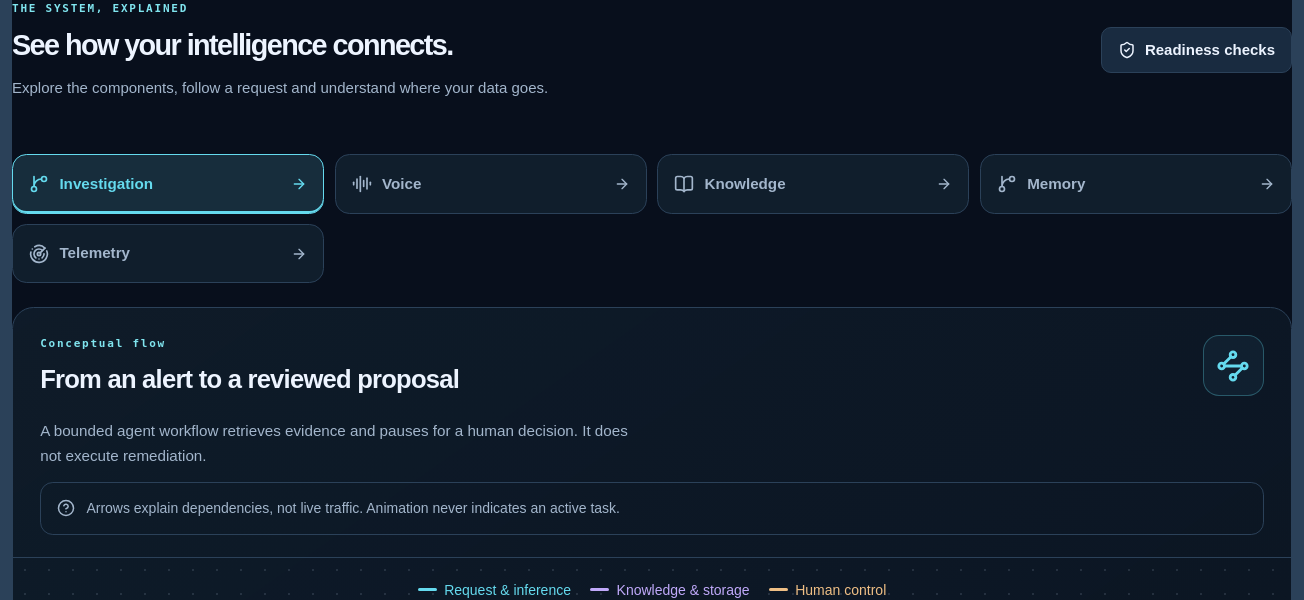
Test: architecture: explained flows and measured checks › changes every journey and selected component to French without changing service or route identifiers
Click the button "Voice".
click(402, 183)  # box left=335, top=154, right=647, bottom=214
(page scrolled)
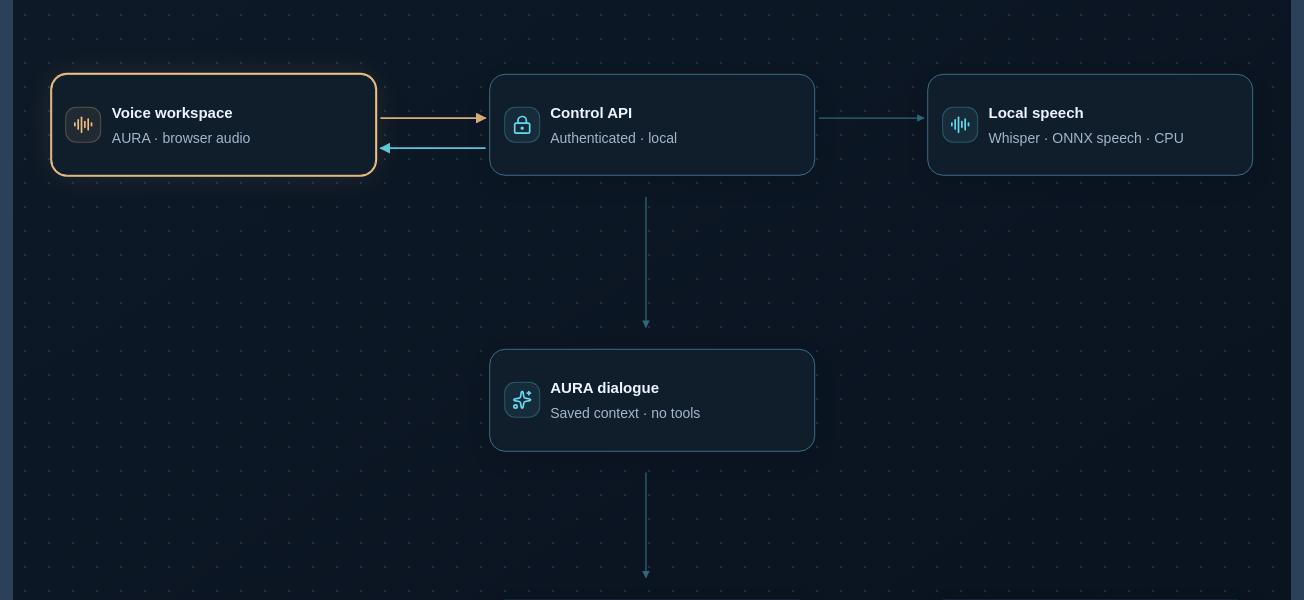
Click the button "AURA dialogue Saved context · no tools".
click(522, 400)  # box left=489, top=349, right=815, bottom=451
(page scrolled)
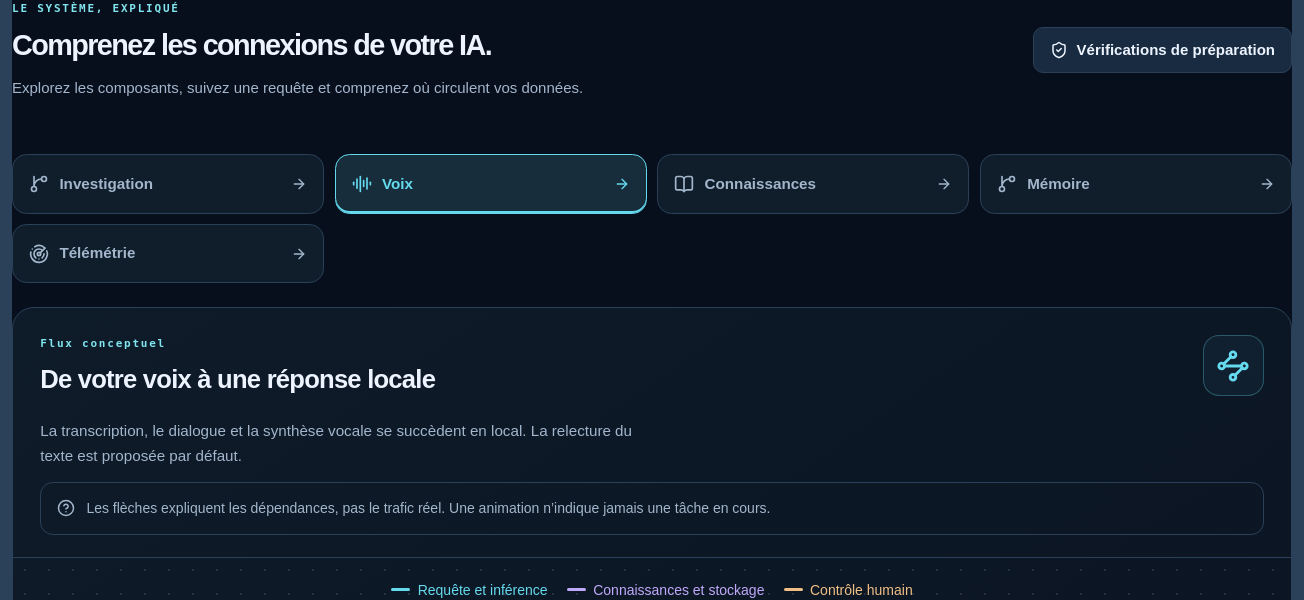
Check: the heading "De votre voix à une réponse locale" is shown, box left=40, top=365, right=435, bottom=393
Click the button "Connaissances".
click(813, 184)  # box left=657, top=154, right=969, bottom=214
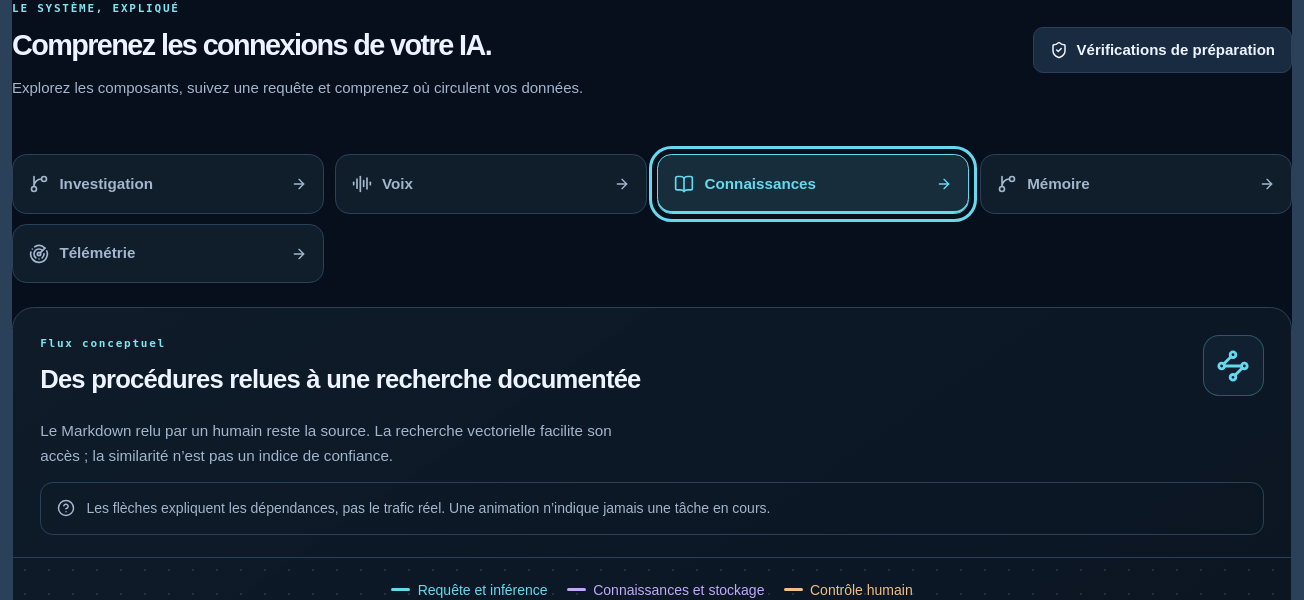
Check: the heading "Des procédures relues à une recherche documentée" is shown, box left=40, top=363, right=648, bottom=397
Click the button "Télémétrie".
click(97, 253)  # box left=12, top=224, right=324, bottom=283
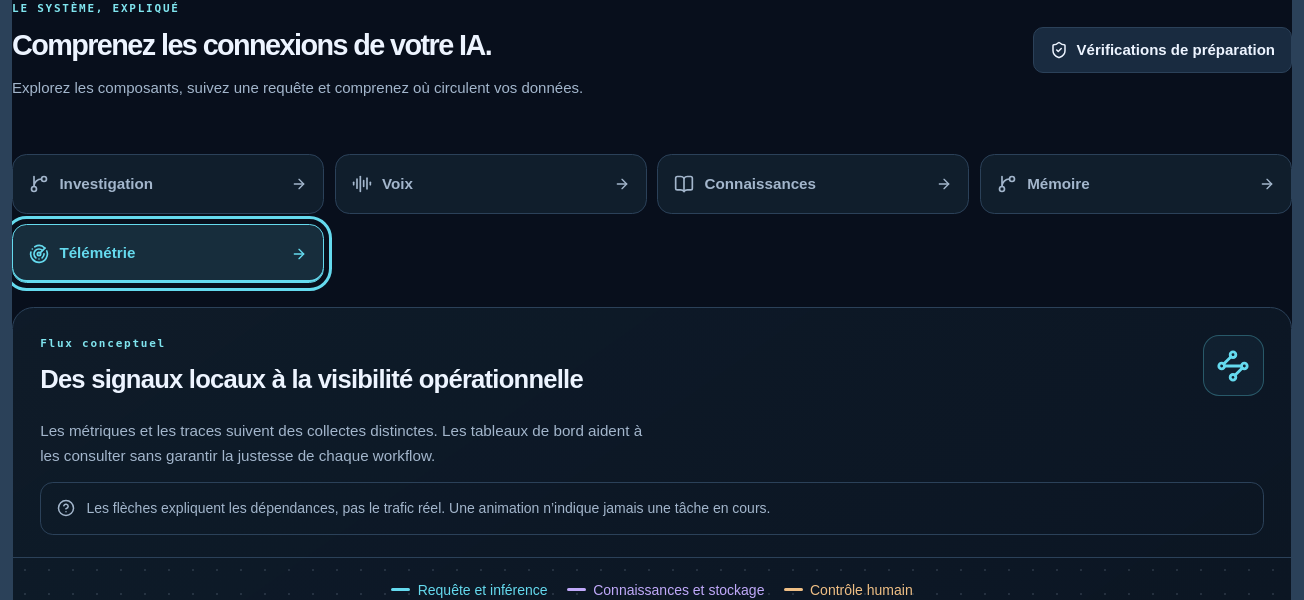
Check: the heading "Des signaux locaux à la visibilité opérationnelle" is shown, box left=40, top=363, right=648, bottom=397
Click the button "Investigation".
click(106, 183)  # box left=12, top=154, right=324, bottom=214
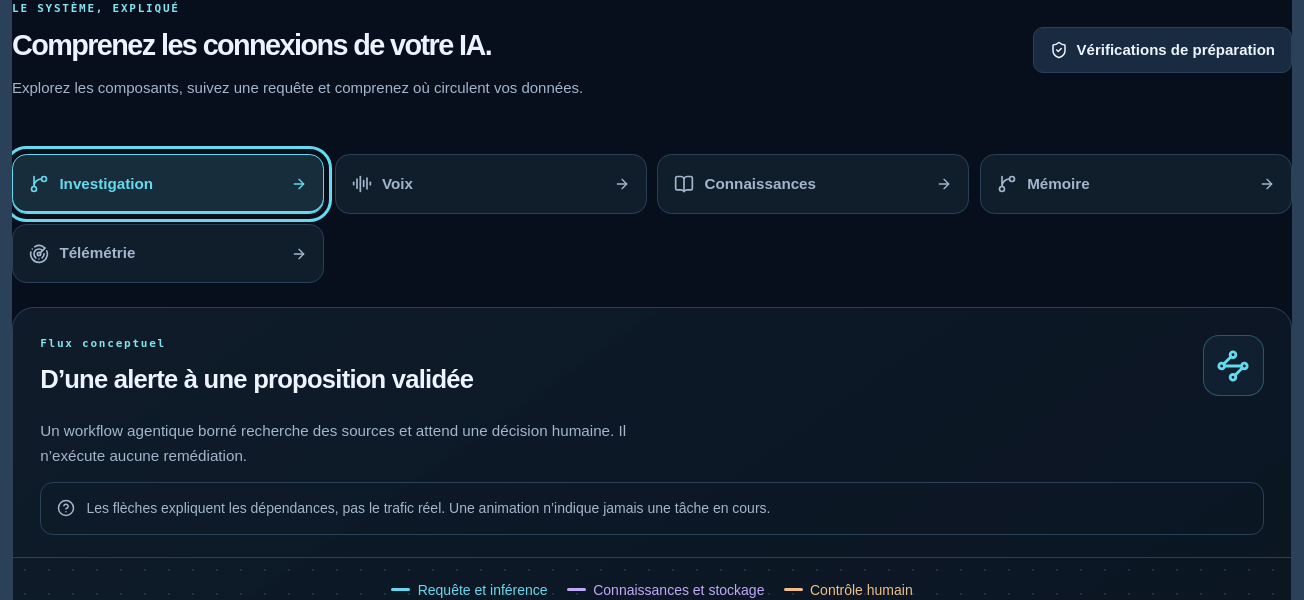
Check: the heading "D’une alerte à une proposition validée" is shown, box left=40, top=365, right=473, bottom=393
